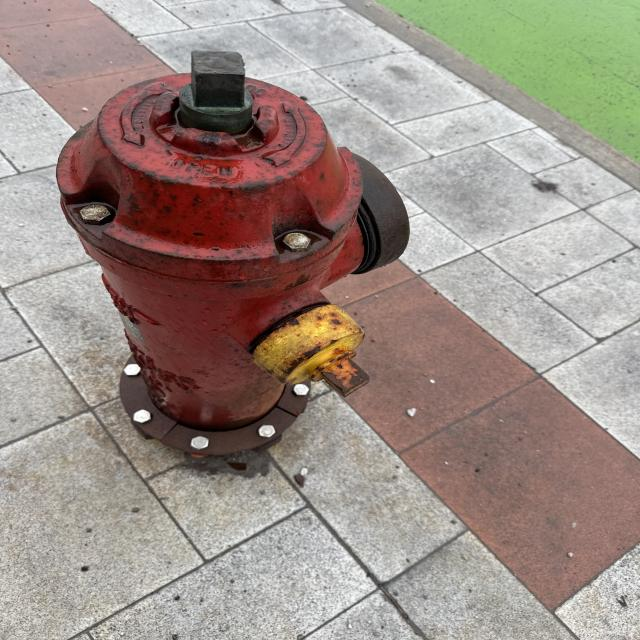Fire hydrant: (53, 48, 412, 461)
